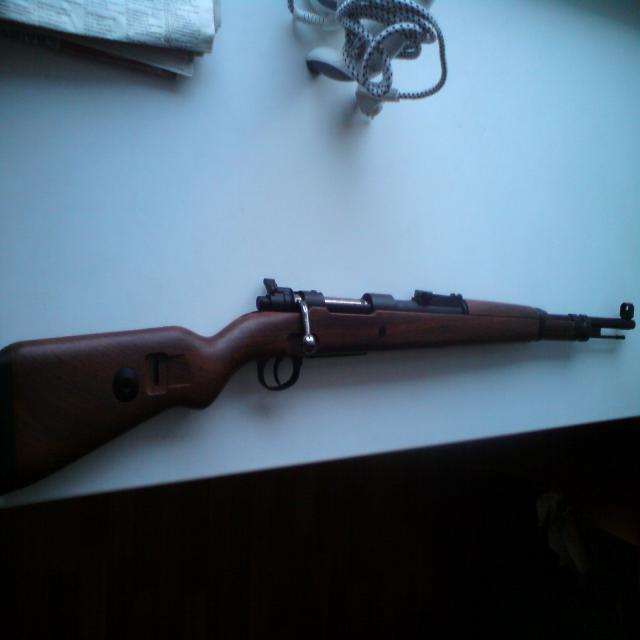firearm: (0, 278, 634, 491)
